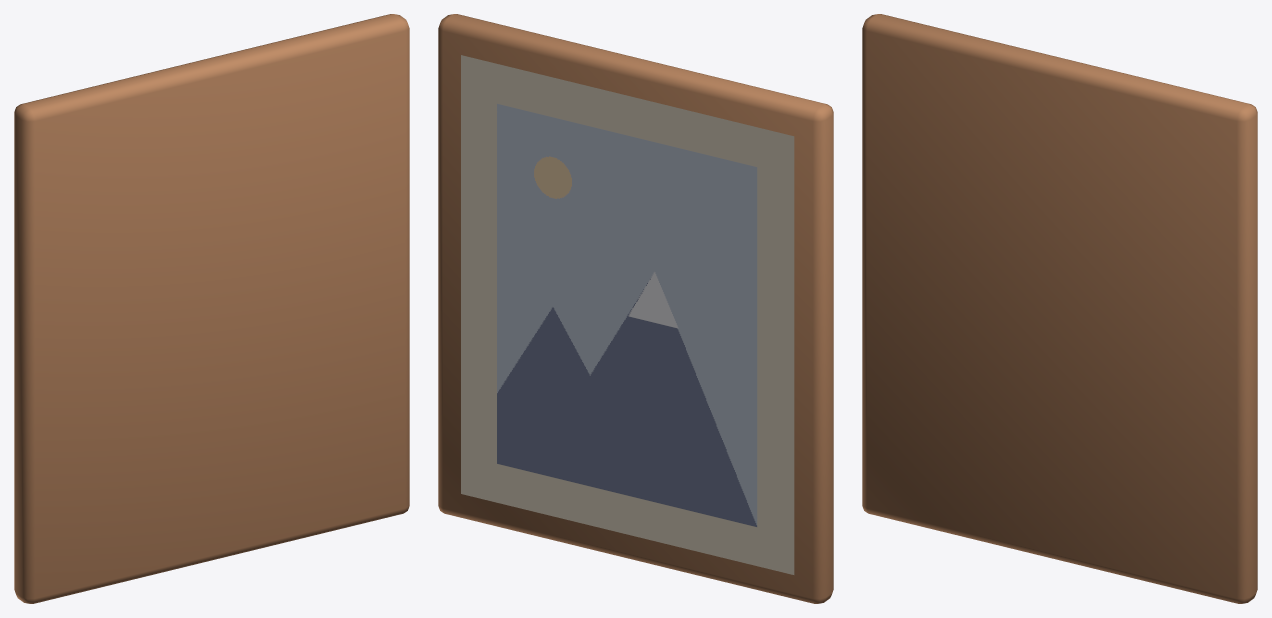
File: senior_frame_2.glb
3 renders of one model, left to right at view 1: azimuth 30°, elevation 25°; view 2: azimuth 150°, elevation 25°; view 3: azimuth 330°, elevation 25°, orthographic.
Parts seen in each view (by area): view 1: senior_frame_2__WoodWarm; view 2: senior_frame_2, senior_frame_2__WoodWarm; view 3: senior_frame_2__WoodWarm.
Boxes of the visible parts, left/top/right/bottom form: senior_frame_2__WoodWarm: left=14, top=14, right=409, bottom=603; senior_frame_2: left=461, top=55, right=794, bottom=574; senior_frame_2__WoodWarm: left=438, top=14, right=833, bottom=603; senior_frame_2__WoodWarm: left=862, top=14, right=1257, bottom=603.
Size of the model in its own units: 0.36 by 0.44 by 0.0265.
2 materials, 1 textured.
